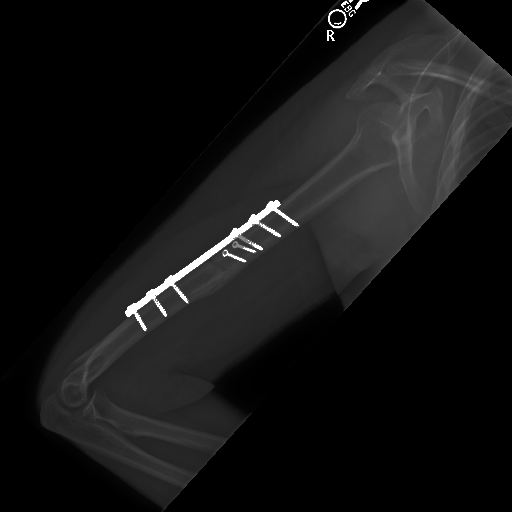implant: (220, 190, 299, 263), (120, 259, 196, 334)
